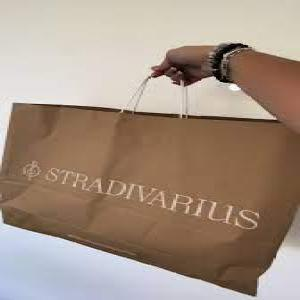stradivarius: (4, 157, 272, 243)
